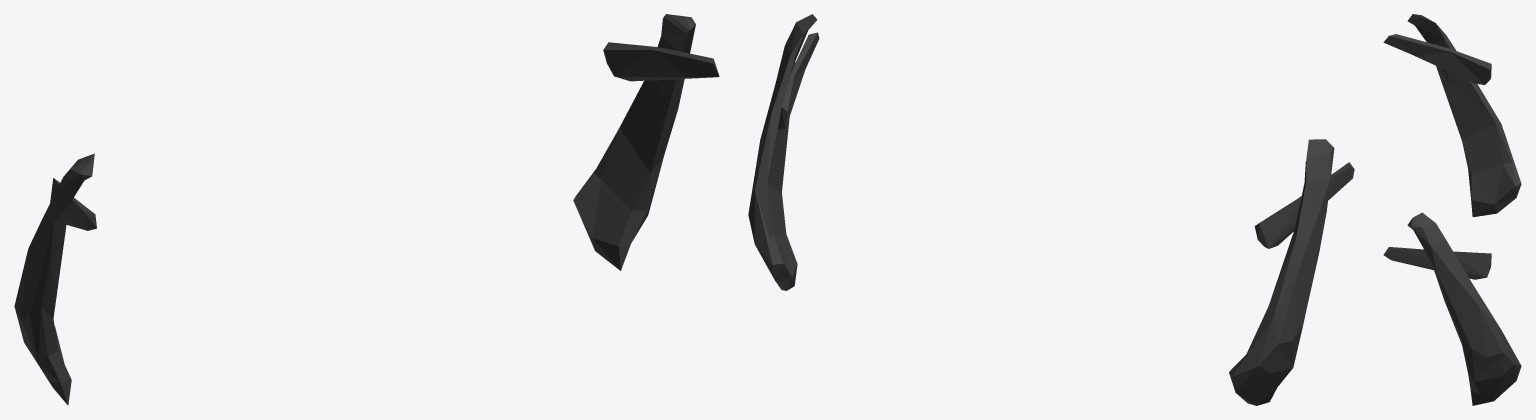
The model's file is lig_lateral_collateral_tarsal.glb.
The picture shows the model from 3 angles, left to right: view 1: azimuth 30°, elevation 25°; view 2: azimuth 150°, elevation 25°; view 3: azimuth 270°, elevation 25°; orthographic projection. The views are drawn at different scales.
Visible parts, largest first — view 1: lig_lateral_collateral_tarsal; view 2: lig_lateral_collateral_tarsal; view 3: lig_lateral_collateral_tarsal.
Boxes of the visible parts, x1=… form: lig_lateral_collateral_tarsal: x1=14, y1=14, x2=719, y2=405; lig_lateral_collateral_tarsal: x1=748, y1=14, x2=1354, y2=405; lig_lateral_collateral_tarsal: x1=1383, y1=14, x2=1521, y2=405.
Bounding box in the file's own units: 0.00576 × 0.00244 × 0.00155.
1 material, 1 textured.
